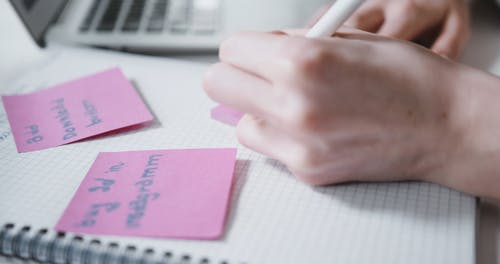Note: (57, 151, 236, 238), (3, 67, 154, 150)
